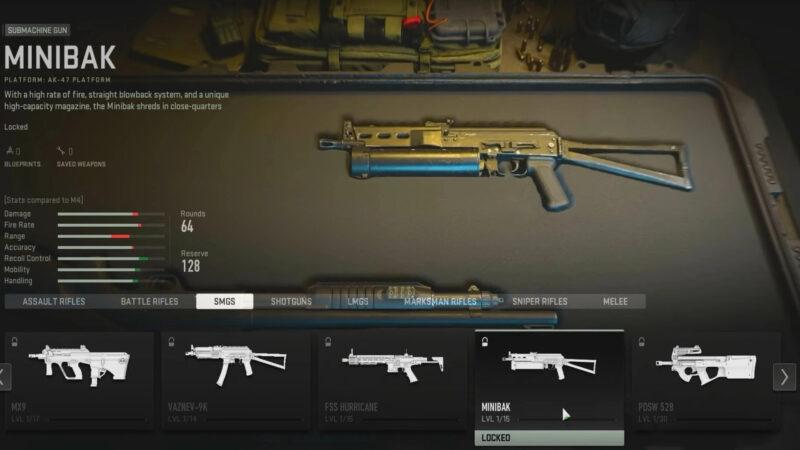Pistol: (314, 116, 696, 214), (26, 345, 133, 390), (182, 345, 292, 387), (651, 346, 759, 387), (339, 349, 447, 387), (500, 346, 599, 382)
